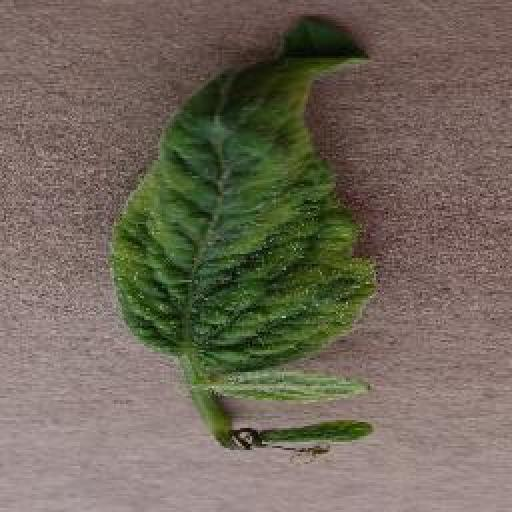disease_tomato: (113, 15, 380, 365)
